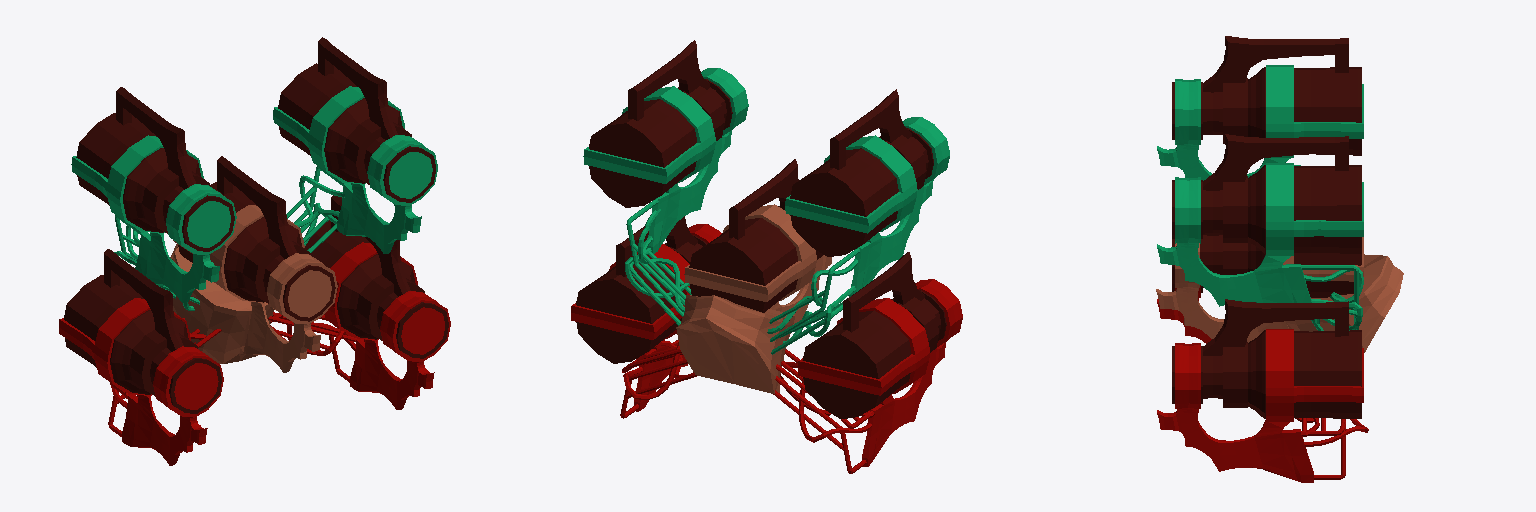
The model's file is gunHolder-lvl3.obj.
3 views of the same model, side by side, from view 1: azimuth 30°, elevation 25°; view 2: azimuth 150°, elevation 25°; view 3: azimuth 270°, elevation 25° (orthographic).
Visible parts, largest first — view 1: Chassis-Lvl3-Addons.001_Chassis-Lvl1_Cube.007, Cylinder_Cylinder.002, Chassis-Lvl2-Addons.002_Chassis-Lvl1_Cube.004, Cylinder_Cylinder.001, Chassis-Lvl1-Base.001_Chassis-Lvl1_Cube.005, Cylinder_Cylinder.000; view 2: Chassis-Lvl3-Addons.001_Chassis-Lvl1_Cube.007, Cylinder_Cylinder.002, Cylinder_Cylinder.001, Chassis-Lvl2-Addons.002_Chassis-Lvl1_Cube.004, Chassis-Lvl1-Base.001_Chassis-Lvl1_Cube.005, Cylinder_Cylinder.000; view 3: Cylinder_Cylinder.002, Chassis-Lvl3-Addons.001_Chassis-Lvl1_Cube.007, Chassis-Lvl2-Addons.002_Chassis-Lvl1_Cube.004, Cylinder_Cylinder.001, Chassis-Lvl1-Base.001_Chassis-Lvl1_Cube.005, Cylinder_Cylinder.000.
Boxes of the visible parts, x1=… form: Chassis-Lvl3-Addons.001_Chassis-Lvl1_Cube.007: x1=71, y1=86, x2=437, y2=310; Cylinder_Cylinder.002: x1=76, y1=37, x2=435, y2=251; Chassis-Lvl2-Addons.002_Chassis-Lvl1_Cube.004: x1=59, y1=242, x2=450, y2=465; Cylinder_Cylinder.001: x1=64, y1=195, x2=448, y2=413; Chassis-Lvl1-Base.001_Chassis-Lvl1_Cube.005: x1=170, y1=205, x2=337, y2=372; Cylinder_Cylinder.000: x1=178, y1=156, x2=335, y2=321; Chassis-Lvl3-Addons.001_Chassis-Lvl1_Cube.007: x1=583, y1=68, x2=949, y2=354; Cylinder_Cylinder.002: x1=589, y1=40, x2=933, y2=256; Cylinder_Cylinder.001: x1=576, y1=216, x2=946, y2=418; Chassis-Lvl2-Addons.002_Chassis-Lvl1_Cube.004: x1=571, y1=224, x2=962, y2=473; Chassis-Lvl1-Base.001_Chassis-Lvl1_Cube.005: x1=676, y1=204, x2=831, y2=393; Cylinder_Cylinder.000: x1=689, y1=159, x2=822, y2=312; Cylinder_Cylinder.002: x1=1172, y1=36, x2=1361, y2=253; Chassis-Lvl3-Addons.001_Chassis-Lvl1_Cube.007: x1=1157, y1=65, x2=1363, y2=330; Chassis-Lvl2-Addons.002_Chassis-Lvl1_Cube.004: x1=1157, y1=285, x2=1368, y2=482; Cylinder_Cylinder.001: x1=1172, y1=284, x2=1361, y2=418; Chassis-Lvl1-Base.001_Chassis-Lvl1_Cube.005: x1=1156, y1=237, x2=1403, y2=352; Cylinder_Cylinder.000: x1=1172, y1=233, x2=1361, y2=297.
Size of the model in its own units: 2.38 by 2.5 by 1.64.